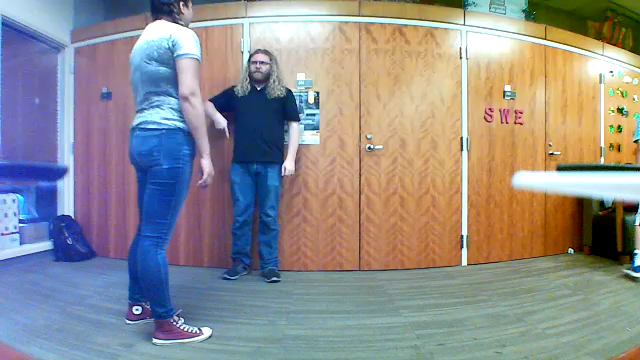down: (209, 112, 234, 145)
